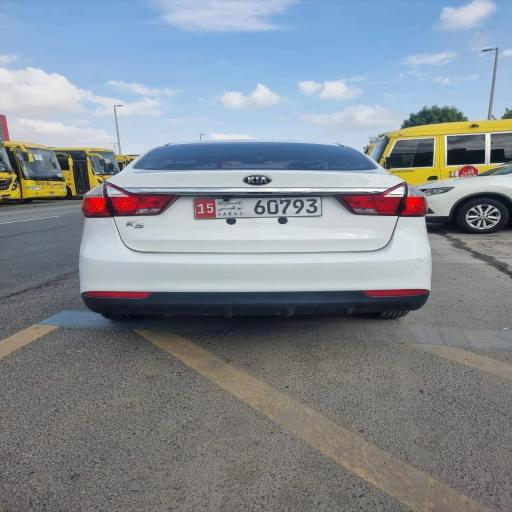license-plates: (194, 196, 322, 219)
